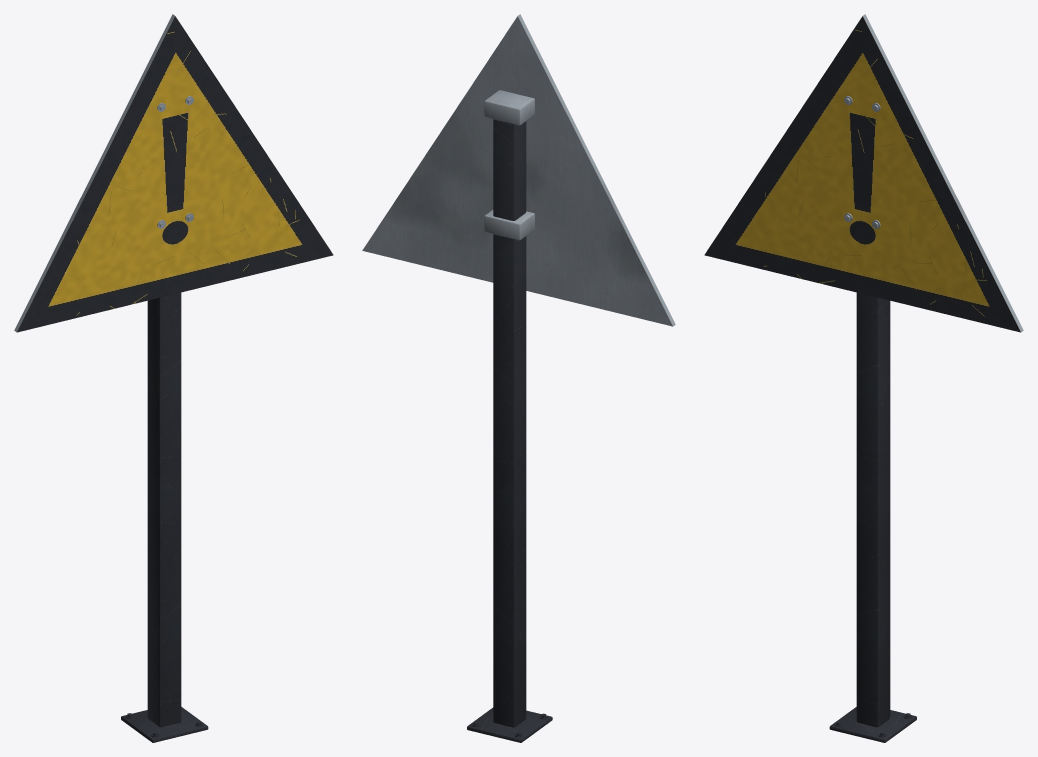
File: caution_sign.glb
3 renders of one model, left to right at view 1: azimuth 30°, elevation 25°; view 2: azimuth 150°, elevation 25°; view 3: azimuth 330°, elevation 25°, orthographic.
Visible parts, largest first — view 1: CautionSignMesh; view 2: CautionSignMesh; view 3: CautionSignMesh.
Part boxes in pixels (box(x1,y1,x2,y2)): CautionSignMesh: box(14, 14, 333, 742); CautionSignMesh: box(362, 14, 675, 742); CautionSignMesh: box(704, 14, 1023, 742).
Bounding box in the file's own units: 0.68 × 1.47 × 0.12.
Materials: 3 (3 with a texture image).
